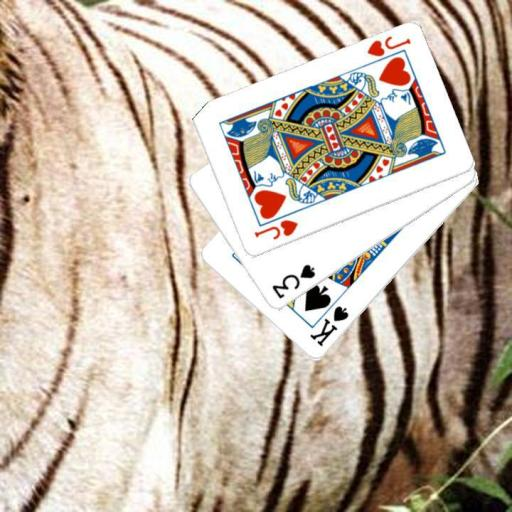3S: (269, 261, 317, 301)
JH: (364, 33, 413, 59), (251, 217, 299, 242)
KS: (307, 303, 351, 348)
